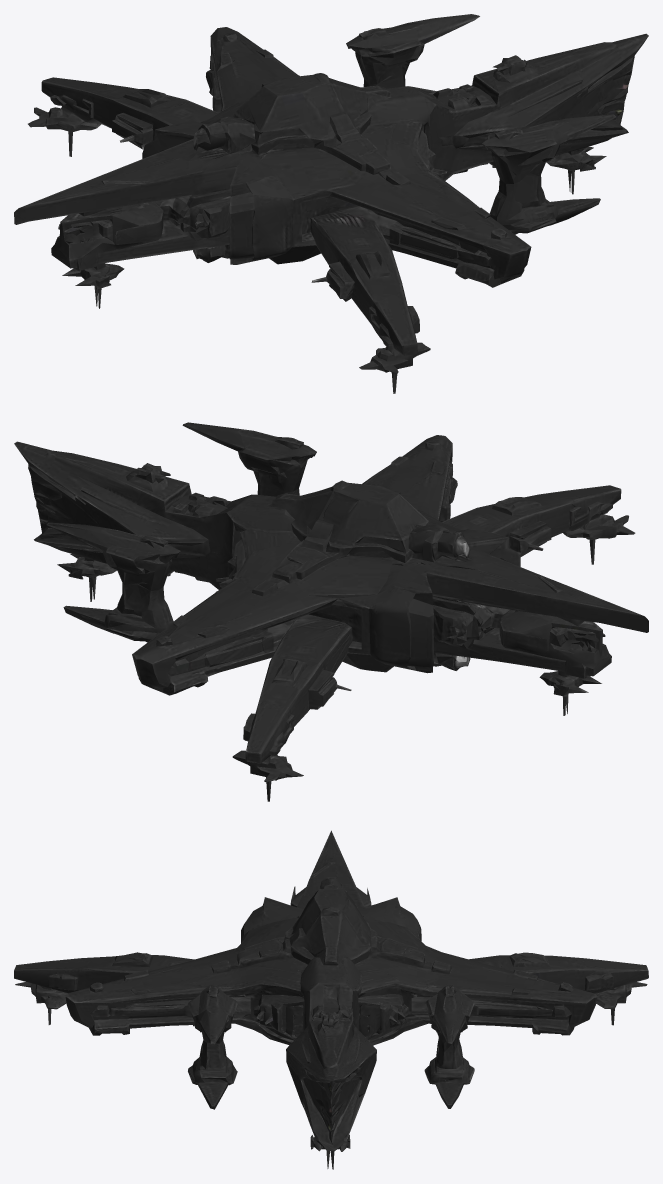
File: enemy-pluto-fortress.glb
3 renders of one model, top to bottom at view 1: azimuth 30°, elevation 25°; view 2: azimuth 150°, elevation 25°; view 3: azimuth 270°, elevation 25°, orthographic. The views are drawn at different scales.
Bounding box in the file's own units: 1.9 × 0.512 × 1.89.
Materials: 1 (1 with a texture image).
